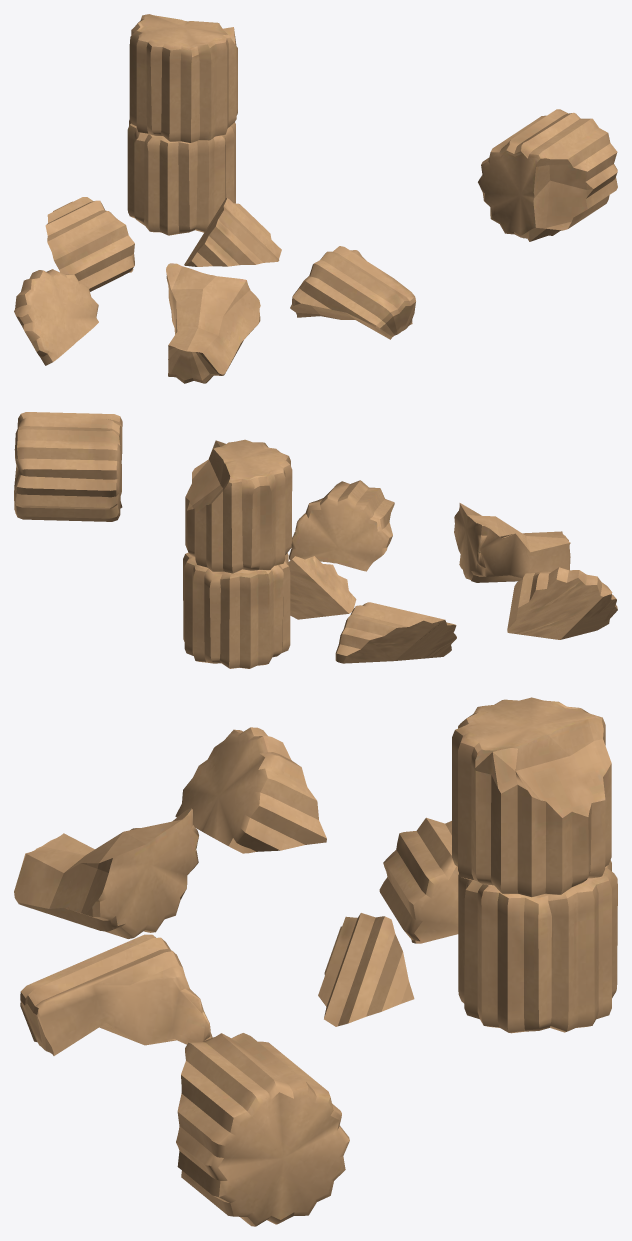
File: sf_pack_rubble.glb
The picture shows the model from 3 angles, top to bottom: view 1: azimuth 30°, elevation 25°; view 2: azimuth 150°, elevation 25°; view 3: azimuth 270°, elevation 25°; orthographic projection. The views are drawn at different scales.
Parts seen in each view (by area): view 1: sf_pack_rubble; view 2: sf_pack_rubble; view 3: sf_pack_rubble.
Part boxes in pixels (x1,y1,x2,y2): sf_pack_rubble: [14, 14, 617, 383]; sf_pack_rubble: [14, 412, 617, 668]; sf_pack_rubble: [14, 697, 617, 1226].
Size of the model in its own units: 6.51 by 2.08 by 3.88.
1 material, 1 textured.
